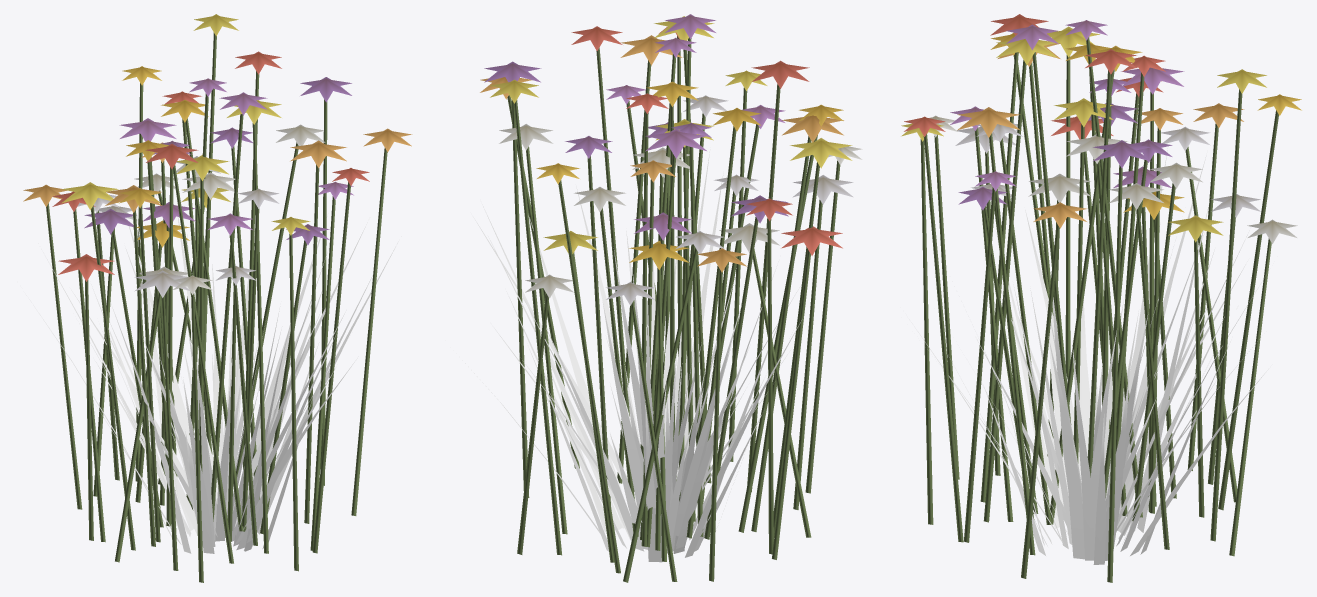
Rendered from flowers.glb.
3 renders of one model, left to right at view 1: azimuth 30°, elevation 25°; view 2: azimuth 150°, elevation 25°; view 3: azimuth 270°, elevation 25°, orthographic. The views are drawn at different scales.
Visible parts, largest first — view 1: flowers_3, flowers_0, flowers_2, flowers_1; view 2: flowers_1, flowers_3, flowers_2, flowers_0; view 3: flowers_1, flowers_3, flowers_2, flowers_0.
Boxes of the visible parts, box(x1,y1,x2,y2) form: flowers_3: box(23, 51, 412, 563); flowers_0: box(84, 77, 401, 553); flowers_2: box(71, 124, 372, 582); flowers_1: box(26, 14, 367, 571); flowers_1: box(473, 16, 852, 573); flowers_3: box(480, 26, 843, 581); flowers_2: box(462, 95, 862, 582); flowers_0: box(482, 14, 788, 553); flowers_1: box(901, 26, 1301, 560); flowers_3: box(904, 14, 1261, 578); flowers_2: box(929, 115, 1297, 564); flowers_0: box(909, 20, 1249, 582).
Bounding box in the file's own units: 0.4069 × 0.5179 × 0.3739.
